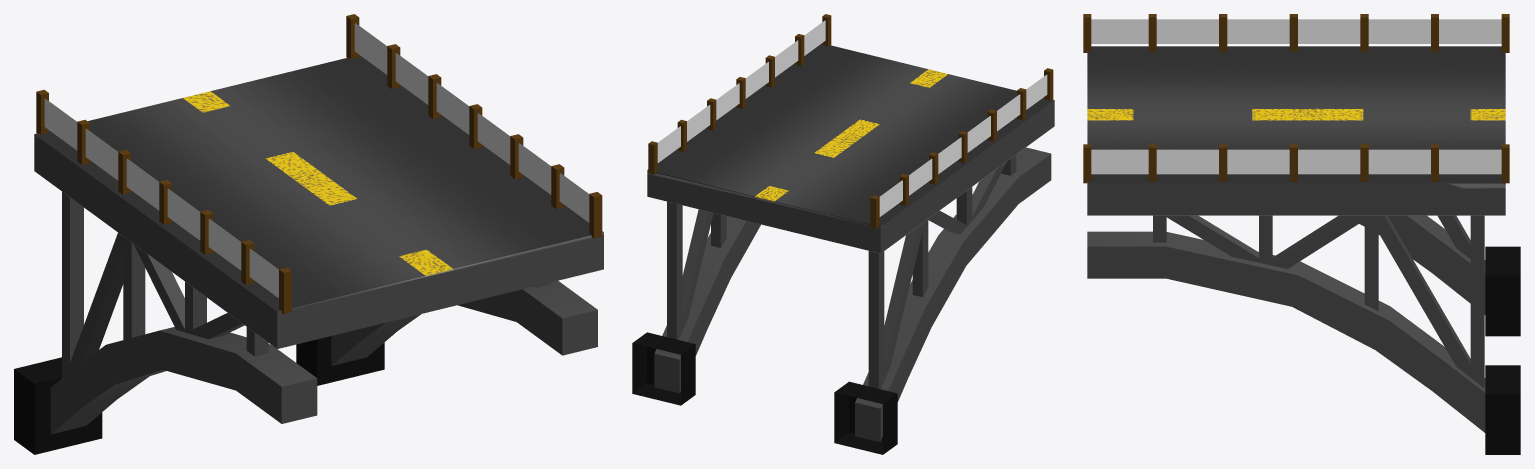
Rendered from bridge 1.fbx.
3 views of the same model, side by side, from view 1: azimuth 30°, elevation 25°; view 2: azimuth 150°, elevation 25°; view 3: azimuth 270°, elevation 25° (orthographic). The views are drawn at different scales.
Parts seen in each view (by area): view 1: Puente_salida_1; view 2: Puente_salida_1; view 3: Puente_salida_1.
Part boxes in pixels (box(x1,y1,x2,y2)): Puente_salida_1: box(14, 14, 603, 454); Puente_salida_1: box(632, 14, 1054, 454); Puente_salida_1: box(1083, 14, 1520, 454).
Size of the model in its own units: 9.86 by 9.39 by 12.38.
